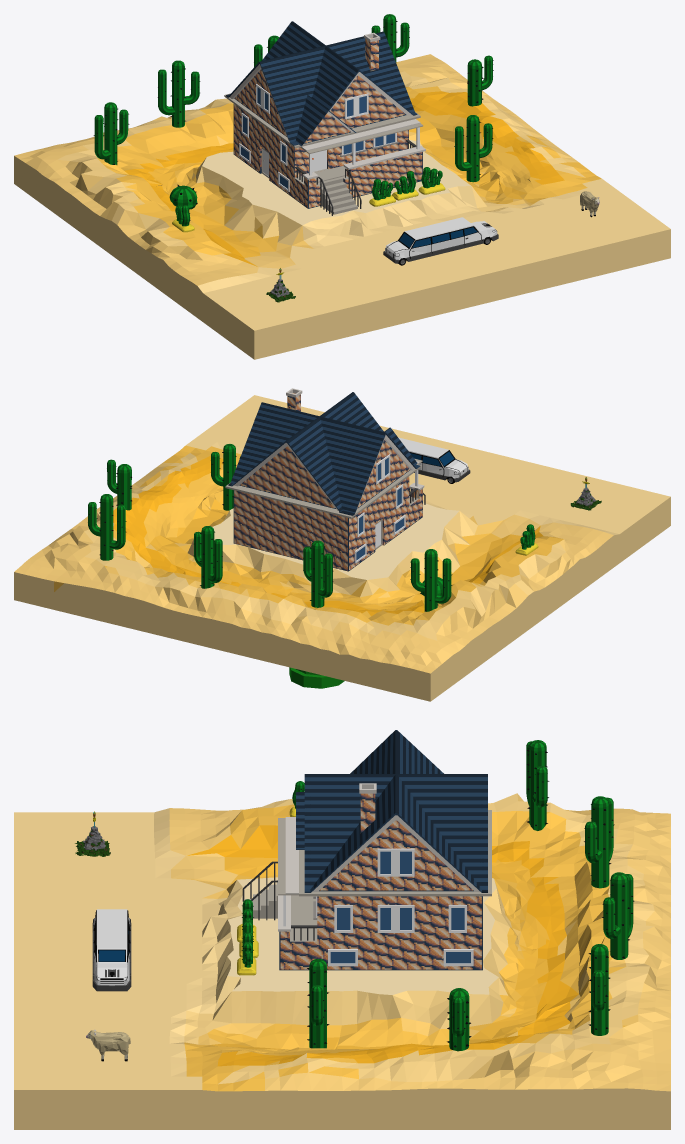
3 renders of one model, top to bottom at view 1: azimuth 30°, elevation 25°; view 2: azimuth 150°, elevation 25°; view 3: azimuth 270°, elevation 25°, orthographic. The views are drawn at different scales.
Visible parts, largest first — view 1: Cube.001, Cube.430, VEHICLES_LIMOUSINE, Cylinder.037, Cylinder.044, Cylinder.045, Cylinder.038, Cylinder.042, Cylinder.039, Cylinder.041, Sphere.023, Cylinder.040; view 2: Cube.001, Cube.430, VEHICLES_LIMOUSINE, Cylinder.042, Cylinder.045, Cylinder.044, Cylinder.043, Cylinder.037, Cylinder.038, UNDERGROUND_PIPES; view 3: Cube.001, Cube.430, VEHICLES_LIMOUSINE, Cylinder.043, Cylinder.044, Cylinder.045, Cylinder.042, Cylinder.037, Cylinder.038, ANIMAL_OVEJA, OBJRANDOM_SWORD_IN_THE_STONE, Cylinder.041.
Part boxes in pixels (x1,y1,x2,y2): Cube.001: (14,54,670,359); Cube.430: (224,21,425,215); VEHICLES_LIMOUSINE: (383,217,498,265); Cylinder.037: (454,115,493,182); Cylinder.044: (157,60,200,127); Cylinder.045: (93,102,129,164); Cylinder.038: (467,55,493,106); Cylinder.042: (371,14,409,62); Cylinder.039: (369,179,395,206); Cylinder.041: (418,167,445,194); Sphere.023: (169,184,197,209); Cylinder.040: (392,171,418,200); Cube.001: (14,395,670,701); Cube.430: (225,388,425,571); VEHICLES_LIMOUSINE: (398,437,470,483); Cylinder.042: (88,494,126,560); Cylinder.045: (410,549,452,611); Cylinder.044: (303,540,333,607); Cylinder.043: (193,526,222,588); Cylinder.037: (211,444,240,510); Cylinder.038: (107,459,131,510); UNDERGROUND_PIPES: (289,667,344,688); Cube.001: (14,793,670,1129); Cube.430: (242,730,491,970); VEHICLES_LIMOUSINE: (92,909,131,991); Cylinder.043: (602,872,634,959); Cylinder.044: (584,796,614,888); Cylinder.045: (526,740,549,830); Cylinder.042: (588,944,610,1035); Cylinder.037: (307,959,329,1048); Cylinder.038: (447,988,471,1051); ANIMAL_OVEJA: (86,1029,130,1061); OBJRANDOM_SWORD_IN_THE_STONE: (75,811,110,856); Cylinder.041: (237,932,256,975).
Size of the model in its own units: 4002 by 2210 by 4001.
Materials: 38 (3 with a texture image).
